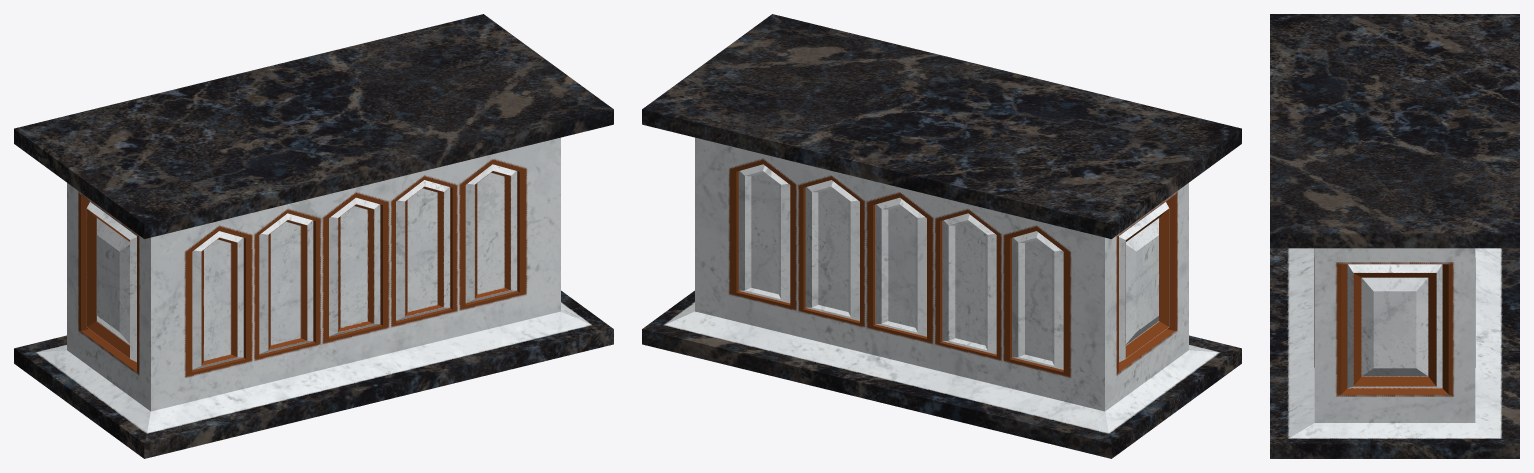
The model's file is Altar.fbx.
3 renders of one model, left to right at view 1: azimuth 30°, elevation 25°; view 2: azimuth 150°, elevation 25°; view 3: azimuth 270°, elevation 25°, orthographic. The views are drawn at different scales.
Visible parts, largest first — view 1: Altar; view 2: Altar; view 3: Altar.
Part boxes in pixels (<box>): Altar: <box>14,14,613,458</box>; Altar: <box>642,14,1241,458</box>; Altar: <box>1270,14,1519,458</box>.
Size of the model in its own units: 1.89 by 0.9024 by 0.9068.
Materials: 1 (1 with a texture image).
